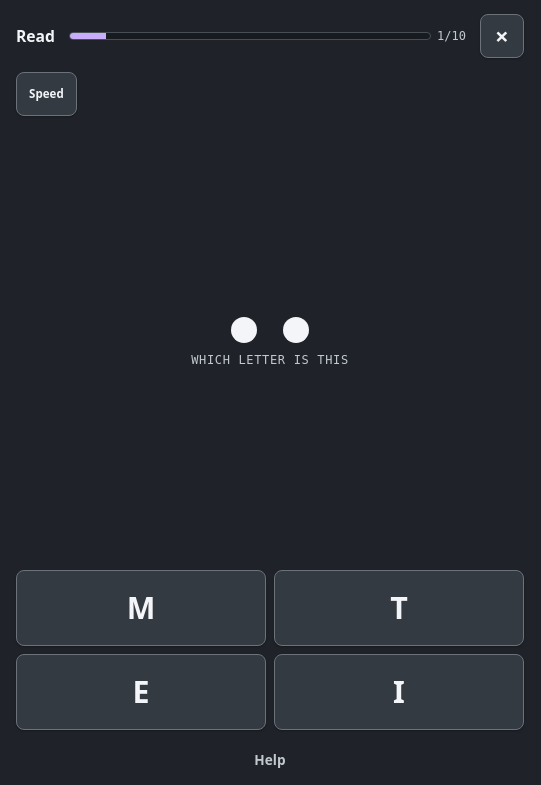
Test case: LetterPracticeRun Speed variant › cannot be toggled once a round has begun
What coordinates should you click on to do the following:
click the button "I"
I would click on:
 (399, 692)
Its box is [274, 654, 524, 730].
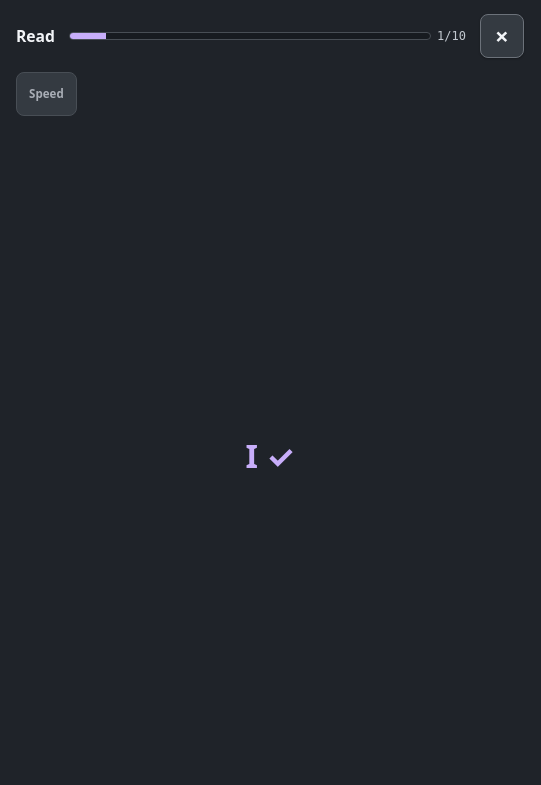
Expected: the button "Speed" is disabled, [16, 72, 77, 116]
